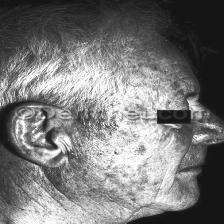Potentially Malignant Skin Tumors: (99, 142, 146, 184), (196, 120, 224, 135)
